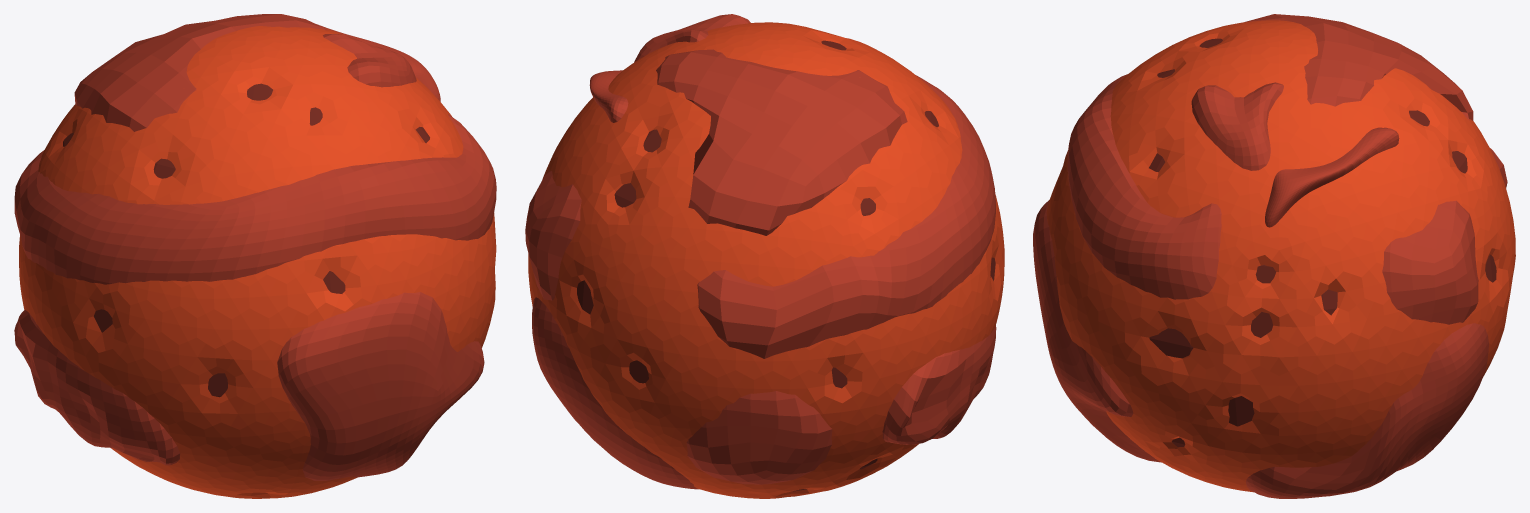
File: mars.glb
3 renders of one model, left to right at view 1: azimuth 30°, elevation 25°; view 2: azimuth 150°, elevation 25°; view 3: azimuth 270°, elevation 25°, orthographic.
Parts seen in each view (by area): view 1: Base, Cube.005, Cube.001, Cube.007, Cube.006, Cube.004, Sphere, Cube.003; view 2: Base, Cube.007, Cube.005, Cube.008, Cube.006, Cube, Cube.002, Sphere, Cube.004, Cube.003; view 3: Base, Cube.005, Cube, Cube.002, Cube.007, Cube.001, Cube.004, Sphere, Cube.003.
Part boxes in pixels (<box>): Base: <box>19,26,496,498</box>; Cube.005: <box>14,114,496,284</box>; Cube.001: <box>277,292,484,480</box>; Cube.007: <box>74,14,328,131</box>; Cube.006: <box>14,309,180,465</box>; Cube.004: <box>323,34,416,87</box>; Sphere: <box>63,83,429,397</box>; Cube.003: <box>316,24,440,101</box>; Base: <box>528,22,1004,498</box>; Cube.007: <box>656,49,907,235</box>; Cube.005: <box>697,75,995,358</box>; Cube.008: <box>686,391,832,484</box>; Cube.006: <box>882,325,996,444</box>; Cube: <box>532,297,698,489</box>; Cube.002: <box>525,171,581,300</box>; Sphere: <box>577,40,995,491</box>; Cube.004: <box>634,14,750,62</box>; Cube.003: <box>589,70,628,122</box>; Base: <box>1046,20,1515,492</box>; Cube.005: <box>1067,74,1507,299</box>; Cube: <box>1246,323,1488,498</box>; Cube.002: <box>1382,200,1478,324</box>; Cube.007: <box>1244,14,1473,120</box>; Cube.001: <box>1033,200,1161,462</box>; Cube.004: <box>1191,82,1283,170</box>; Sphere: <box>1149,38,1496,447</box>; Cube.003: <box>1265,127,1399,227</box>.
Size of the model in its own units: 1.99 by 1.99 by 2.03.
